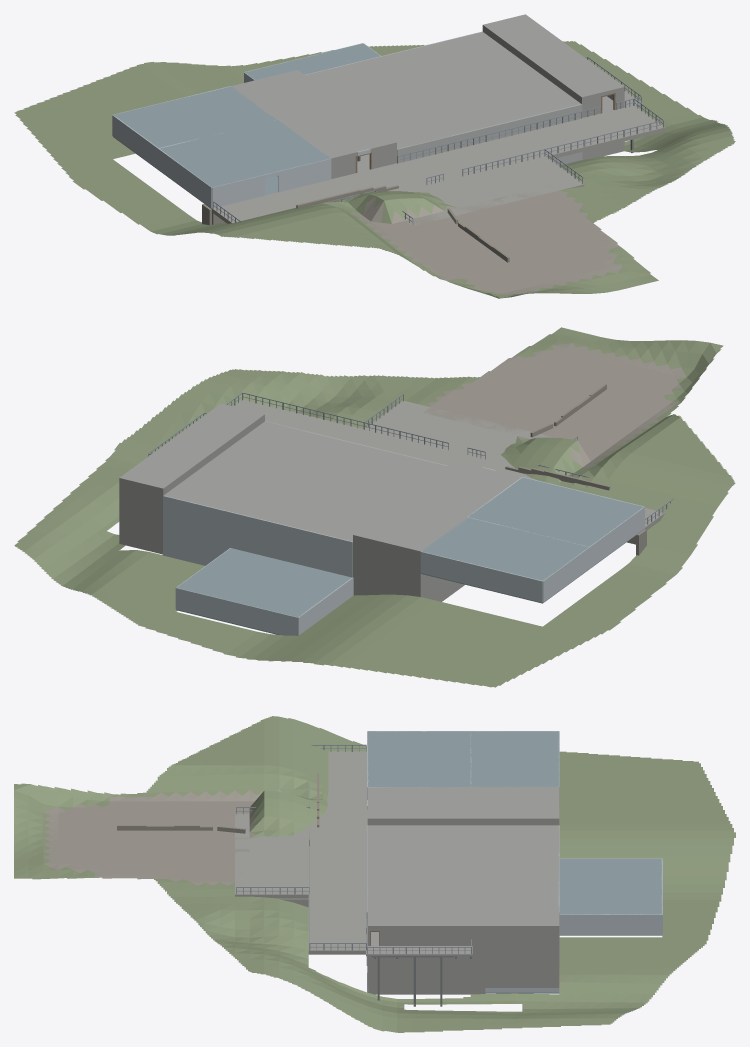
File: reconstructed.glb
3 views of the same model, one above another, from view 1: azimuth 30°, elevation 25°; view 2: azimuth 150°, elevation 25°; view 3: azimuth 270°, elevation 25° (orthographic). The views are drawn at different scales.
Visible parts, largest first — view 1: WLD-09 saved contained hall terrain, WLD-09 turbine enclosed roof region0, WLD-09 complete structural crest deck region0, WLD-09 west hall enclosed roof region0, Ceiling cap control, Ceiling cap office, WLD-09 complete bridge arrival forecourt region0, WLD-09 east hall enclosed roof region0, WLD-09 restart shared turbine workshop north end pier region, Ceiling cap plant, Wall control W, Flat route shell Wall control S.001 (+6 smaller); view 2: WLD-09 saved contained hall terrain, WLD-09 turbine enclosed roof region0, WLD-09 west hall enclosed roof region0, Ceiling cap plant, Ceiling cap control, Flat route shell Wall turbine N.001, Ceiling cap office, WLD-09 complete bridge arrival forecourt region0, WLD-09 east hall enclosed roof region0, WLD-09 complete structural crest deck region0, WLD-09 west-hall N end region0, WLD-09 hall N end region0 (+7 smaller); view 3: WLD-09 saved contained hall terrain, WLD-09 turbine enclosed roof region0, WLD-09 complete structural crest deck region0, WLD-09 hall E pier0 region0, WLD-09 west hall enclosed roof region0, Ceiling cap control, Ceiling cap plant, Ceiling cap office, WLD-09 complete bridge arrival forecourt region0, WLD-09 east hall enclosed roof region0, Wall plant E, WLD-09 retained external service catwalk region0 (+3 smaller).
Part boxes in pixels (x1=…): WLD-09 saved contained hall terrain: x1=14, y1=41, x2=735, y2=298; WLD-09 turbine enclosed roof region0: x1=305, y1=32, x2=580, y2=148; WLD-09 complete structural crest deck region0: x1=212, y1=105, x2=665, y2=223; WLD-09 west hall enclosed roof region0: x1=232, y1=70, x2=396, y2=160; Ceiling cap control: x1=160, y1=119, x2=330, y2=187; Ceiling cap office: x1=113, y1=86, x2=276, y2=147; WLD-09 complete bridge arrival forecourt region0: x1=403, y1=156, x2=584, y2=225; WLD-09 east hall enclosed roof region0: x1=482, y1=14, x2=624, y2=99; WLD-09 restart shared turbine workshop north end pier region: x1=462, y1=104, x2=582, y2=165; Ceiling cap plant: x1=245, y1=43, x2=380, y2=80; Wall control W: x1=158, y1=148, x2=211, y2=208; Flat route shell Wall control S.001: x1=277, y1=158, x2=331, y2=192; WLD-09 saved contained hall terrain: x1=14, y1=327, x2=735, y2=687; WLD-09 turbine enclosed roof region0: x1=163, y1=421, x2=446, y2=541; WLD-09 west hall enclosed roof region0: x1=353, y1=460, x2=519, y2=553; Ceiling cap plant: x1=176, y1=548, x2=351, y2=617; Ceiling cap control: x1=468, y1=477, x2=643, y2=546; Flat route shell Wall turbine N.001: x1=163, y1=496, x2=286, y2=563; Ceiling cap office: x1=421, y1=517, x2=588, y2=580; WLD-09 complete bridge arrival forecourt region0: x1=365, y1=400, x2=554, y2=464; WLD-09 east hall enclosed roof region0: x1=119, y1=403, x2=264, y2=490; WLD-09 complete structural crest deck region0: x1=233, y1=399, x2=664, y2=529; WLD-09 west-hall N end region0: x1=353, y1=535, x2=421, y2=596; WLD-09 hall N end region0: x1=119, y1=478, x2=164, y2=552; WLD-09 saved contained hall terrain: x1=14, y1=716, x2=735, y2=1032; WLD-09 turbine enclosed roof region0: x1=367, y1=825, x2=559, y2=905; WLD-09 complete structural crest deck region0: x1=308, y1=751, x2=367, y2=954; WLD-09 hall E pier0 region0: x1=379, y1=925, x2=559, y2=985; WLD-09 west hall enclosed roof region0: x1=367, y1=787, x2=559, y2=820; Ceiling cap control: x1=367, y1=731, x2=470, y2=787; Ceiling cap plant: x1=559, y1=858, x2=662, y2=914; Ceiling cap office: x1=470, y1=731, x2=559, y2=787; WLD-09 complete bridge arrival forecourt region0: x1=235, y1=813, x2=308, y2=898; WLD-09 east hall enclosed roof region0: x1=367, y1=905, x2=559, y2=927; Wall plant E: x1=559, y1=914, x2=662, y2=934; WLD-09 retained external service catwalk region0: x1=366, y1=946, x2=472, y2=956.
Size of the model in its own units: 85 by 13.4 by 98.
36 materials, 22 textured.
